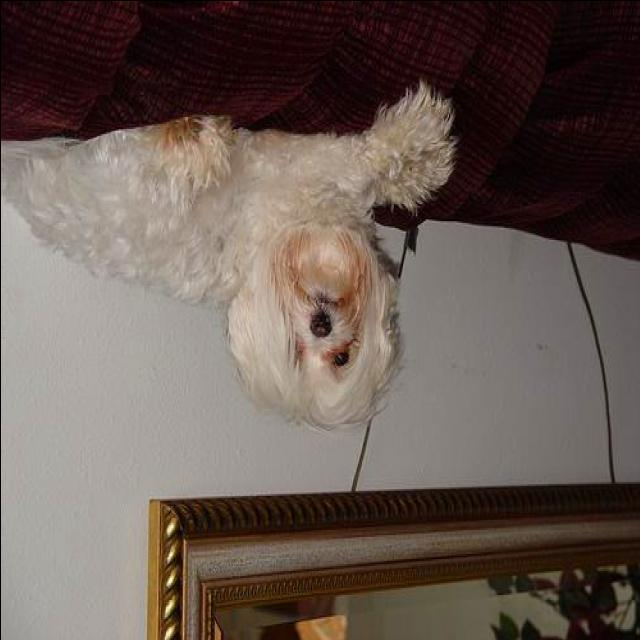maltese_dog: (1, 79, 458, 434)
